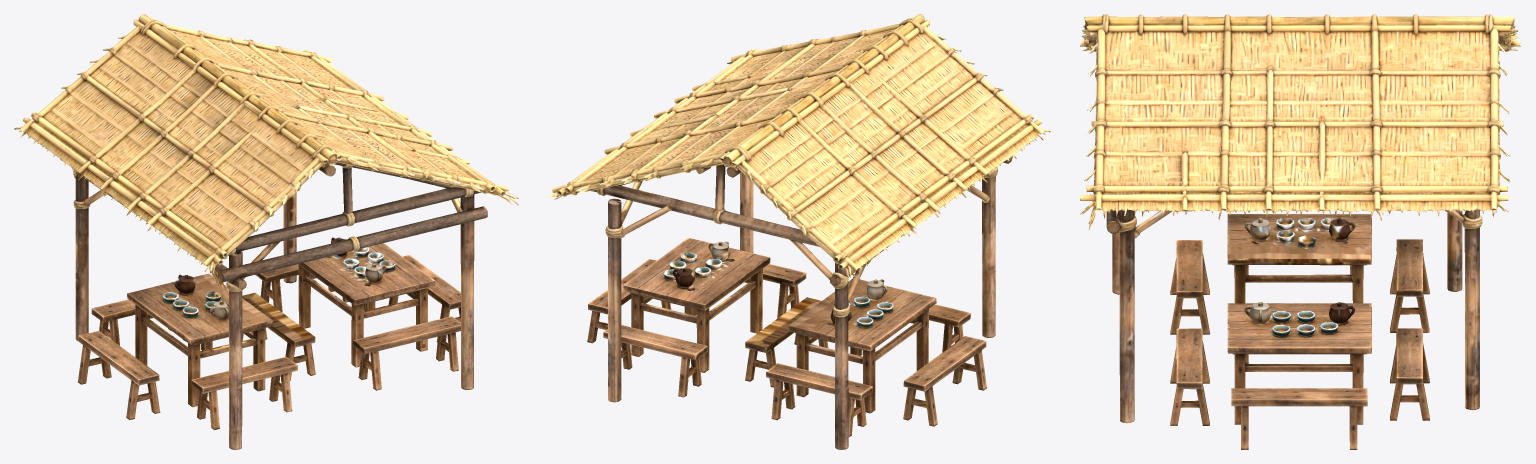
The model's file is qm_teashed.glb.
3 views of the same model, side by side, from view 1: azimuth 30°, elevation 25°; view 2: azimuth 150°, elevation 25°; view 3: azimuth 270°, elevation 25° (orthographic). The views are drawn at different scales.
Parts seen in each view (by area): view 1: qm_teashed; view 2: qm_teashed; view 3: qm_teashed.
Boxes of the visible parts, x1,y1,x2,y2 form: qm_teashed: (14, 14, 518, 449); qm_teashed: (548, 14, 1050, 449); qm_teashed: (1079, 14, 1521, 449).
Bounding box in the file's own units: 4.37 × 3.5 × 4.36.
Materials: 1 (1 with a texture image).
